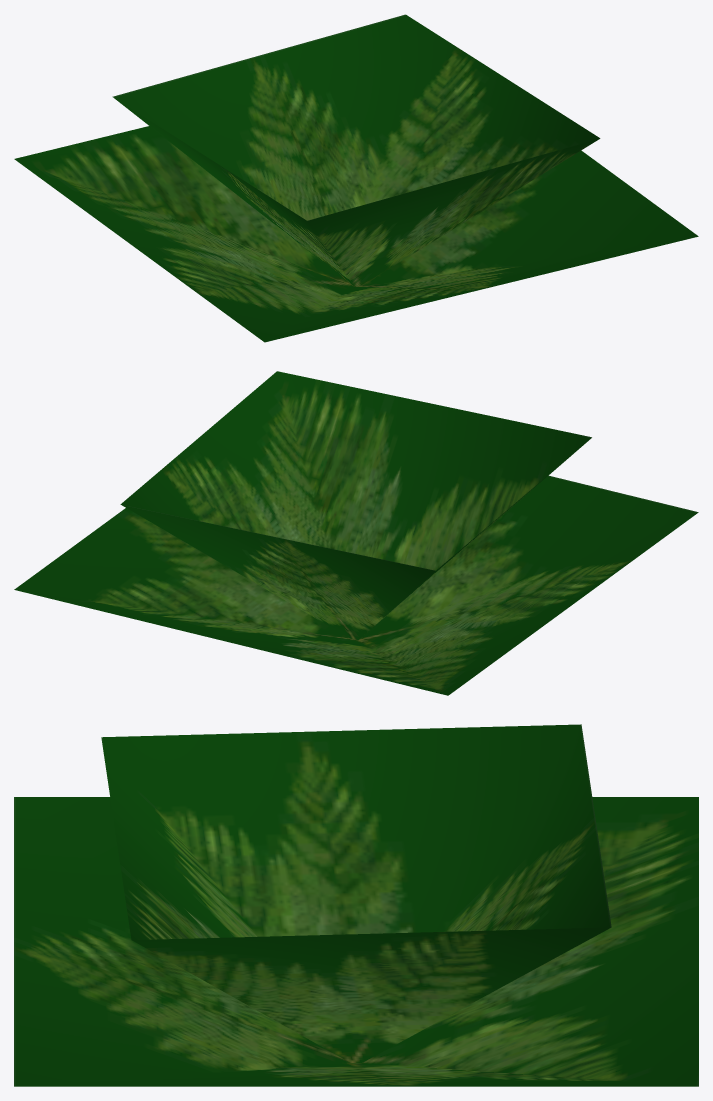
Rendered from fern_groundfern_l2.fbx.
3 renders of one model, top to bottom at view 1: azimuth 30°, elevation 25°; view 2: azimuth 150°, elevation 25°; view 3: azimuth 270°, elevation 25°, orthographic. The views are drawn at different scales.
Parts seen in each view (by area): view 1: mesh_node; view 2: mesh_node; view 3: mesh_node.
Boxes of the visible parts, bbox=[...] form: mesh_node: bbox=[14, 14, 698, 342]; mesh_node: bbox=[14, 371, 698, 695]; mesh_node: bbox=[14, 724, 698, 1086].
Size of the model in its own units: 1.3 by 0.4925 by 1.3.
1 material, 1 textured.
